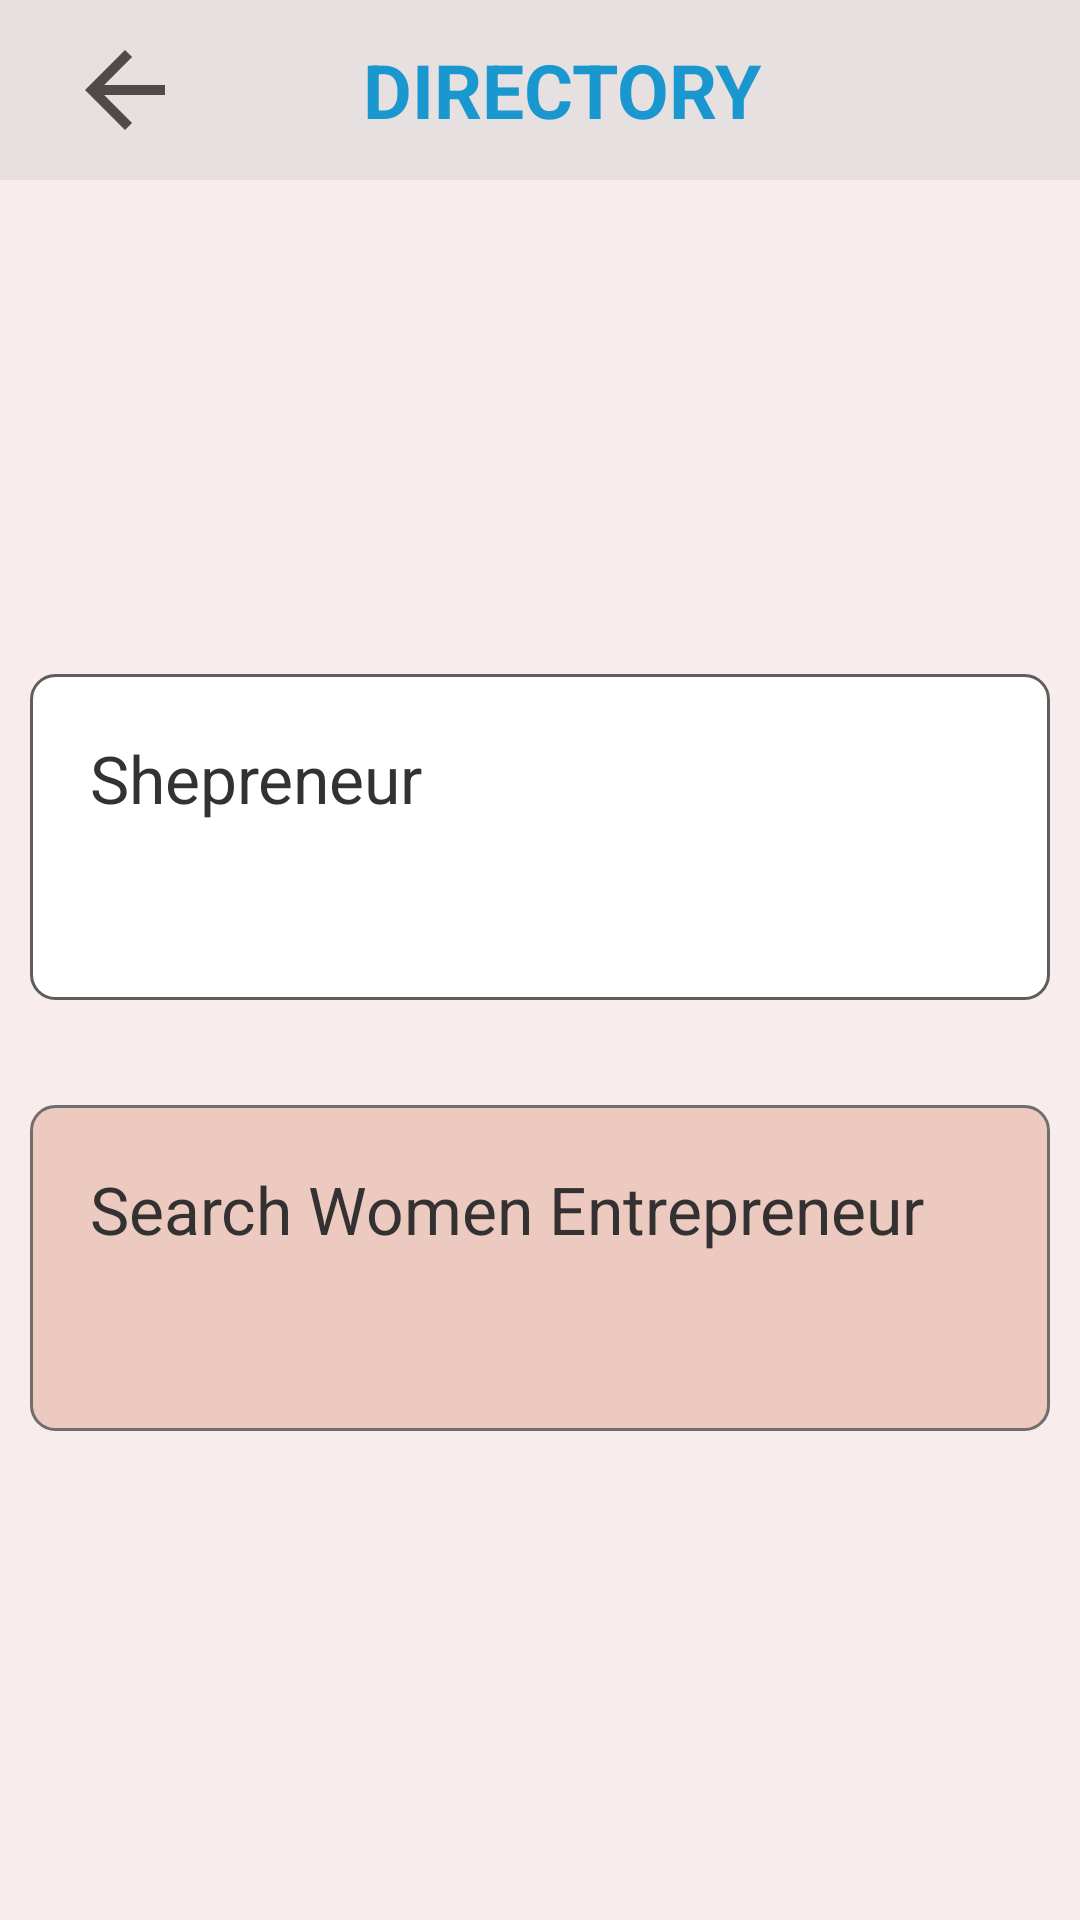

Icon bounding boxes for this 1080x1920 phone screenshot, format (x1, y1, x2, y2):
arrow back: (85, 50, 165, 130)
